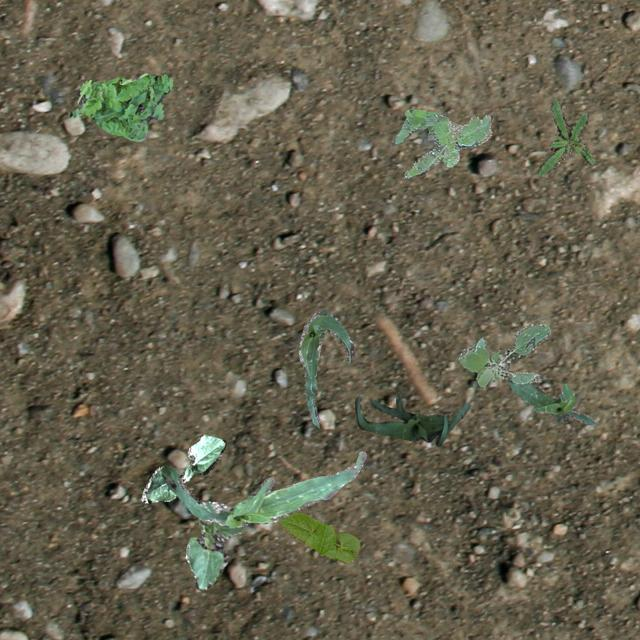crop: (160, 451, 366, 526), (298, 310, 354, 426), (354, 390, 469, 446), (140, 434, 224, 502), (185, 518, 245, 588), (278, 512, 358, 562), (506, 380, 594, 424)
weed: (66, 72, 172, 140), (390, 108, 490, 176), (458, 322, 550, 387), (536, 98, 594, 176)
